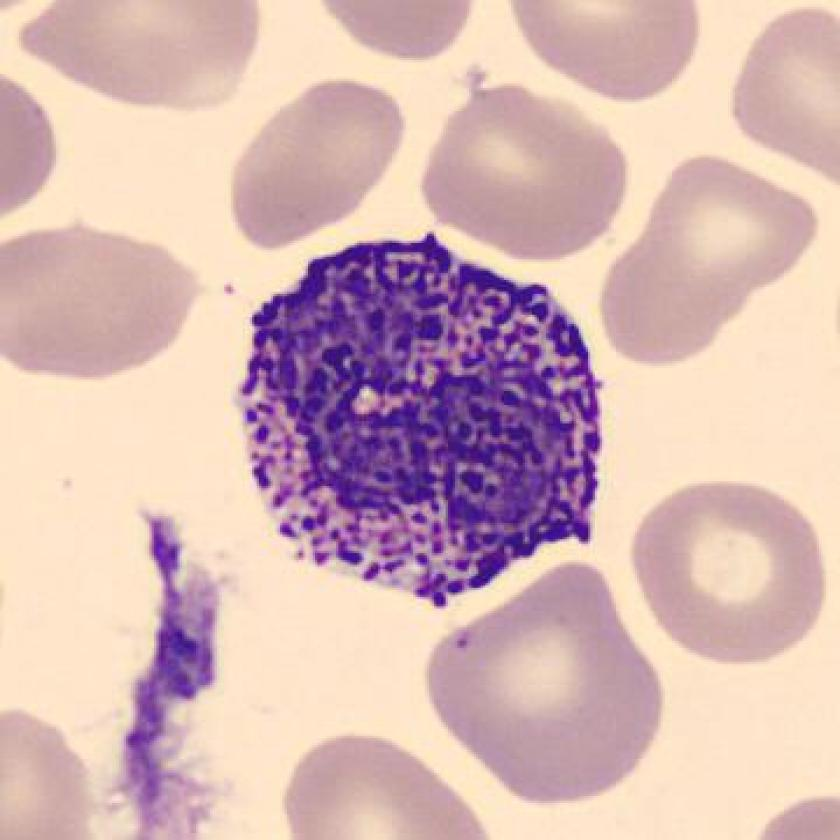basophil: (223, 230, 619, 603)
